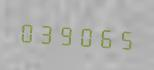five: (113, 22, 131, 53)
nine: (56, 18, 74, 49)
six: (94, 21, 112, 52)
three: (36, 17, 54, 48)
zero: (17, 15, 35, 47), (75, 19, 93, 51)
